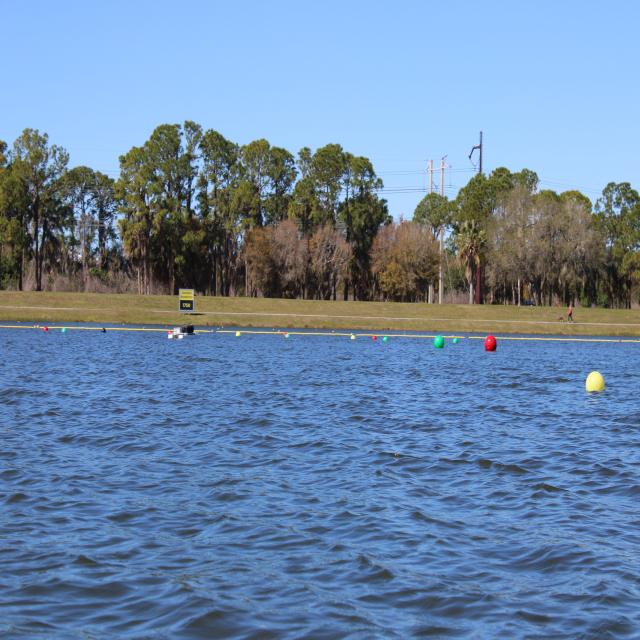green-buoy: (434, 337, 444, 351), (451, 339, 457, 346), (384, 337, 389, 344)
red-buoy: (486, 336, 498, 354)
yellow-buoy: (584, 370, 603, 393)
